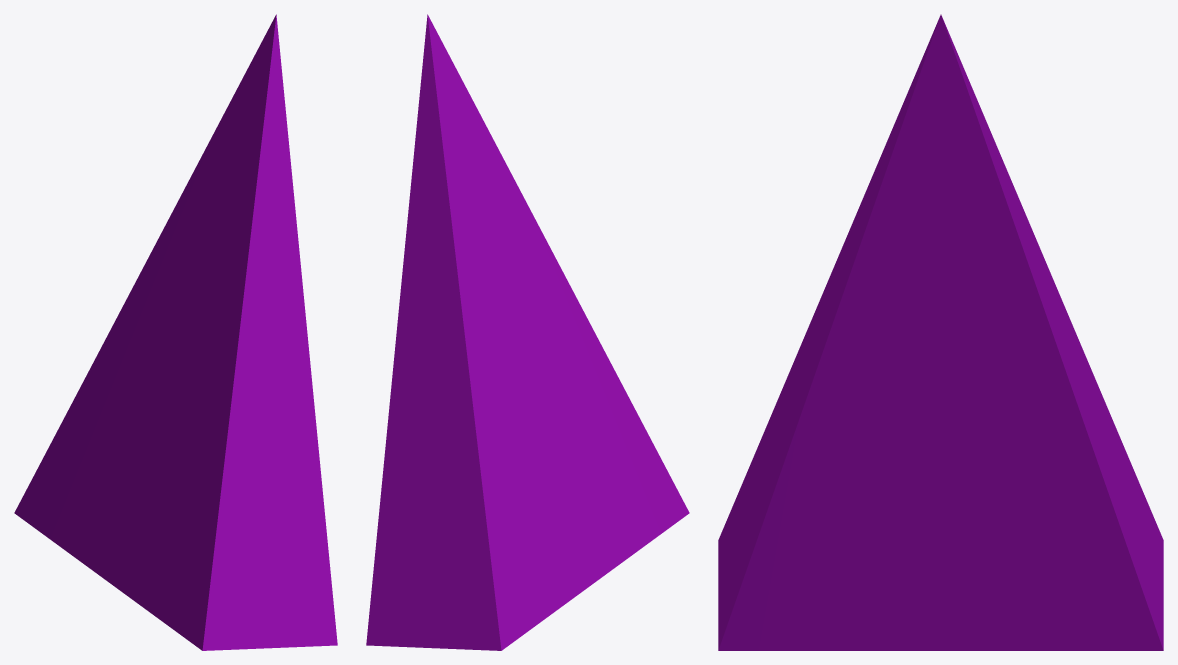
File: player_rightArm.obj
3 renders of one model, left to right at view 1: azimuth 30°, elevation 25°; view 2: azimuth 150°, elevation 25°; view 3: azimuth 270°, elevation 25°, orthographic. The views are drawn at different scales.
Parts seen in each view (by area): view 1: rightArm; view 2: rightArm; view 3: rightArm.
Boxes of the visible parts, bbox=[...] form: rightArm: bbox=[14, 14, 337, 650]; rightArm: bbox=[366, 14, 689, 650]; rightArm: bbox=[718, 14, 1163, 650].
Bounding box in the file's own units: 0.1062 × 0.3349 × 0.2061.
